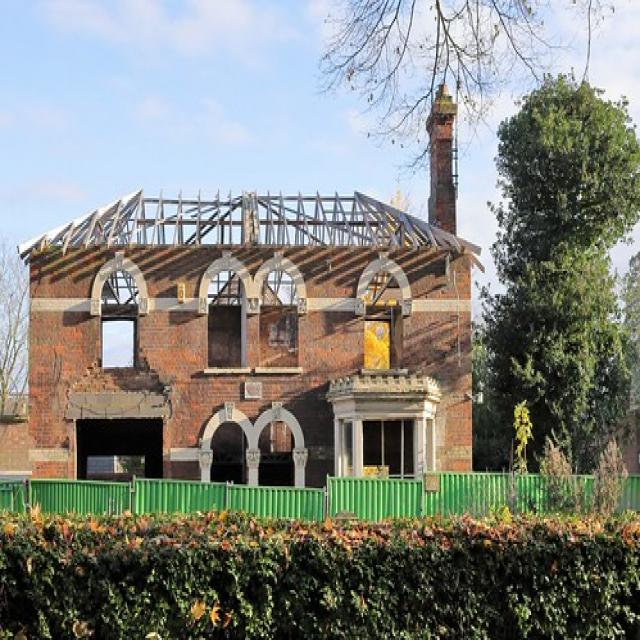Normal_building: (13, 86, 480, 492)
